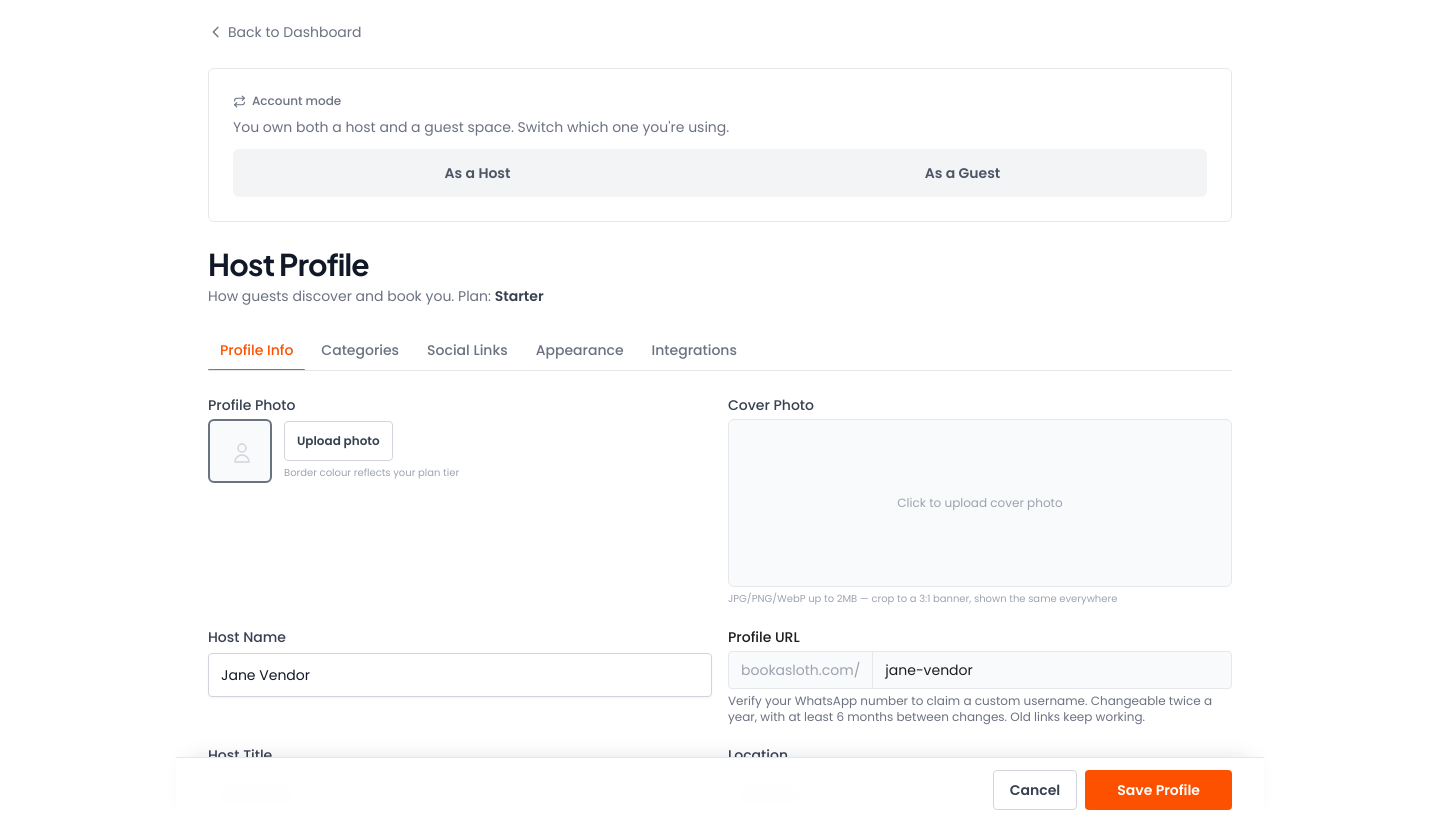
ProfileSetup — tab navigation › clicking Social Links tab shows social inputs
Click the tab "Social Links" at (467, 350), box [415,330,520,370]
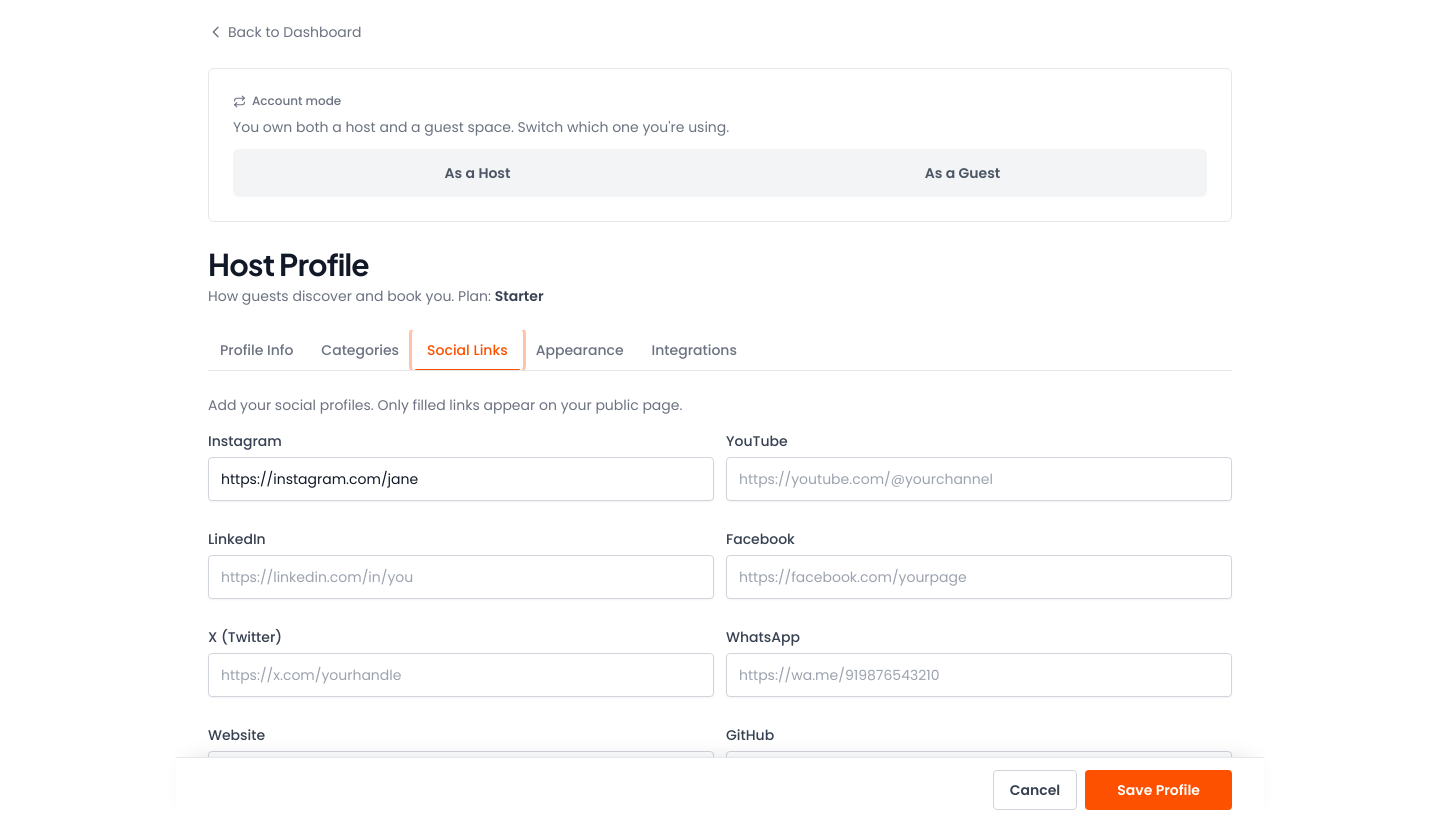
Check: the field labelled "Instagram" is shown, box [208,457,714,501]
Check: the field labelled "YouTube" is shown, box [726,457,1232,501]
Check: the field labelled "WhatsApp" is shown, box [726,653,1232,697]
